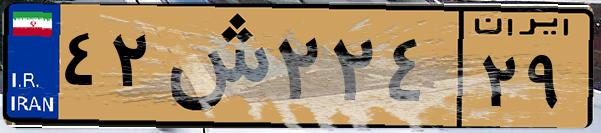2: (270, 28, 330, 110), (330, 28, 385, 110), (475, 38, 525, 113), (110, 28, 158, 98)
4: (385, 28, 445, 110), (57, 26, 110, 100)
9: (525, 38, 570, 115)
ش: (158, 12, 270, 120)
